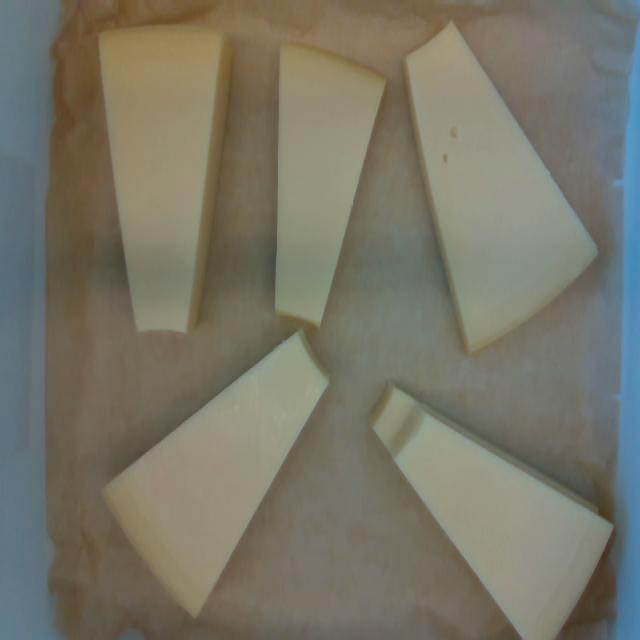Cheese: (405, 24, 595, 349), (107, 335, 326, 613), (396, 415, 609, 639), (101, 27, 219, 333), (275, 45, 384, 324)
